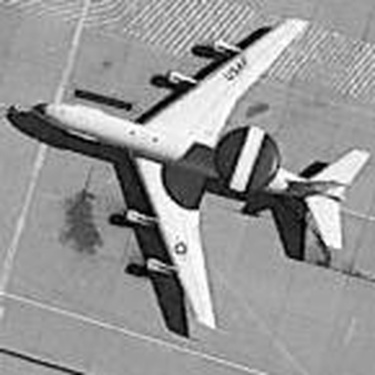airplane: (12, 12, 373, 355)
